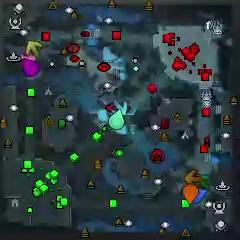p1: (192, 187, 207, 206)
p2: (108, 109, 125, 129)
p3: (22, 58, 41, 77)
p5: (184, 184, 198, 204)
x1: (19, 52, 38, 62)
x2: (25, 40, 43, 57)
x3: (112, 98, 128, 116)
x4: (194, 174, 211, 191)
x5: (183, 170, 202, 185)
